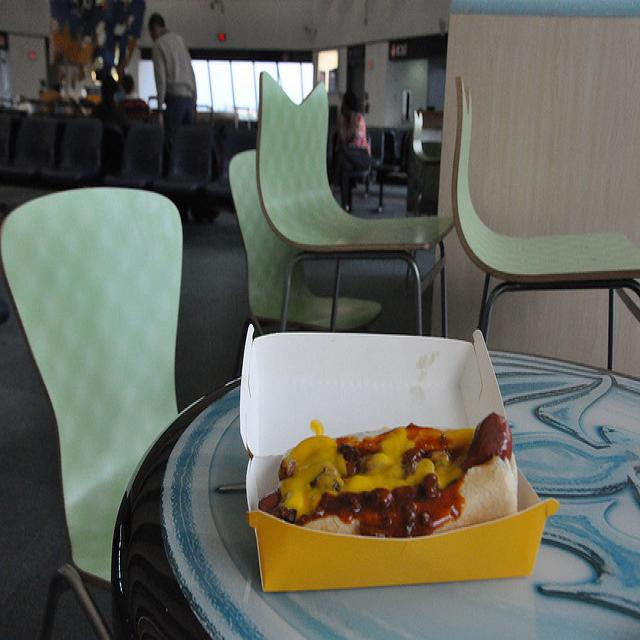chair: (0, 186, 184, 633), (253, 66, 456, 342), (451, 75, 640, 369), (230, 150, 379, 329), (35, 118, 104, 189), (96, 120, 164, 191), (155, 123, 215, 192), (210, 130, 258, 197), (407, 106, 424, 212), (369, 130, 384, 168)
dining table: (104, 325, 640, 630)
